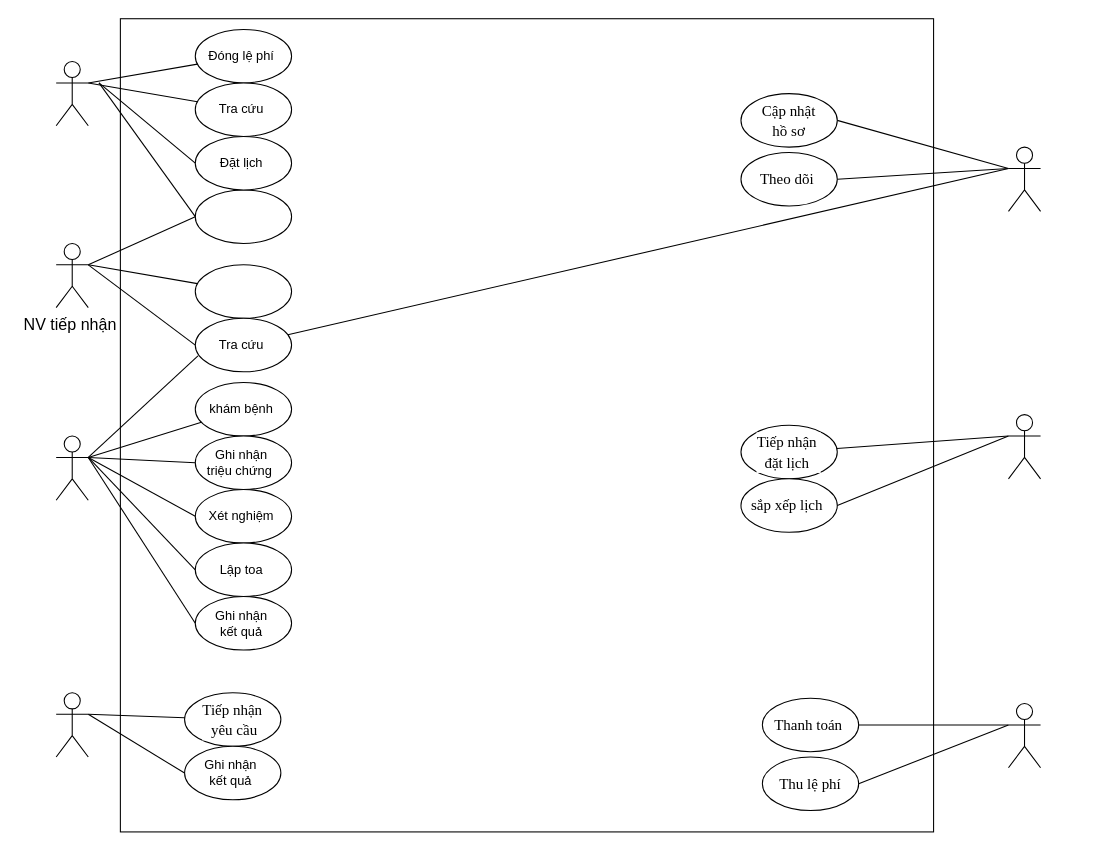
Image size: 1096x851. Some labels were removed from this diagram. Each missing label, with the centre of its shape:
"Bác sĩ" belongs at (x=71, y=467).
"Bệnh nhân" belongs at (x=71, y=93).
"Cấp hs bệnh án" belongs at (x=243, y=291).
"Nv chăm sóc khách hàng" belongs at (x=1024, y=446).
"NV quản lý hồ sơ bệnh án" belongs at (x=1024, y=178).
"NV Thu Ngân" belongs at (x=1024, y=735).
"NV Xét nghiệm" belongs at (x=71, y=724).
"Đk bệnh nhân" belongs at (x=243, y=216).
